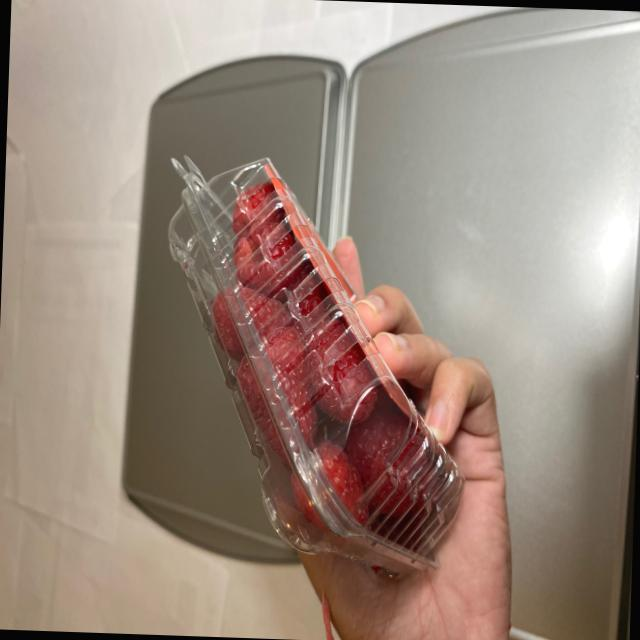raspberries: (189, 170, 443, 549)
